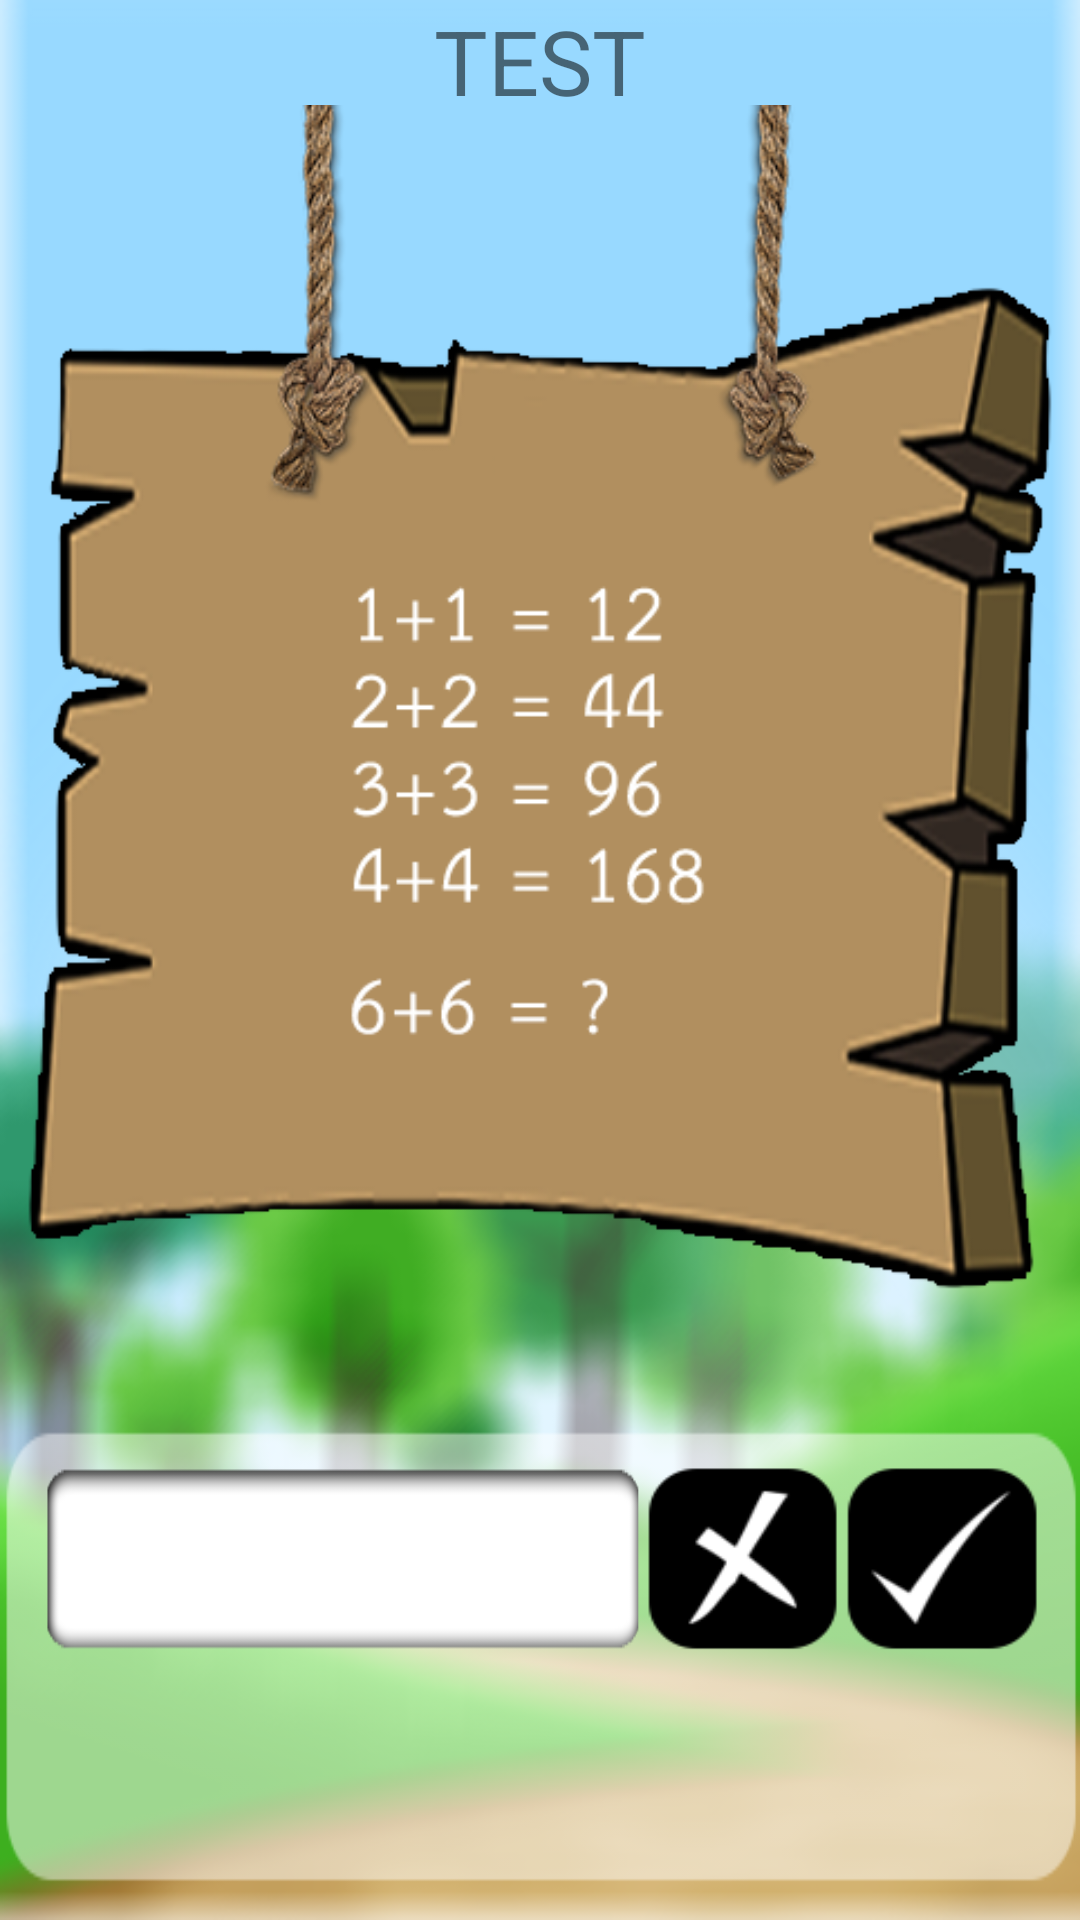

Where to tap for icons on this 1080px x 1920px app screen, as [x,y]:
check mark: [942,1558]
mark: [741,1557]
